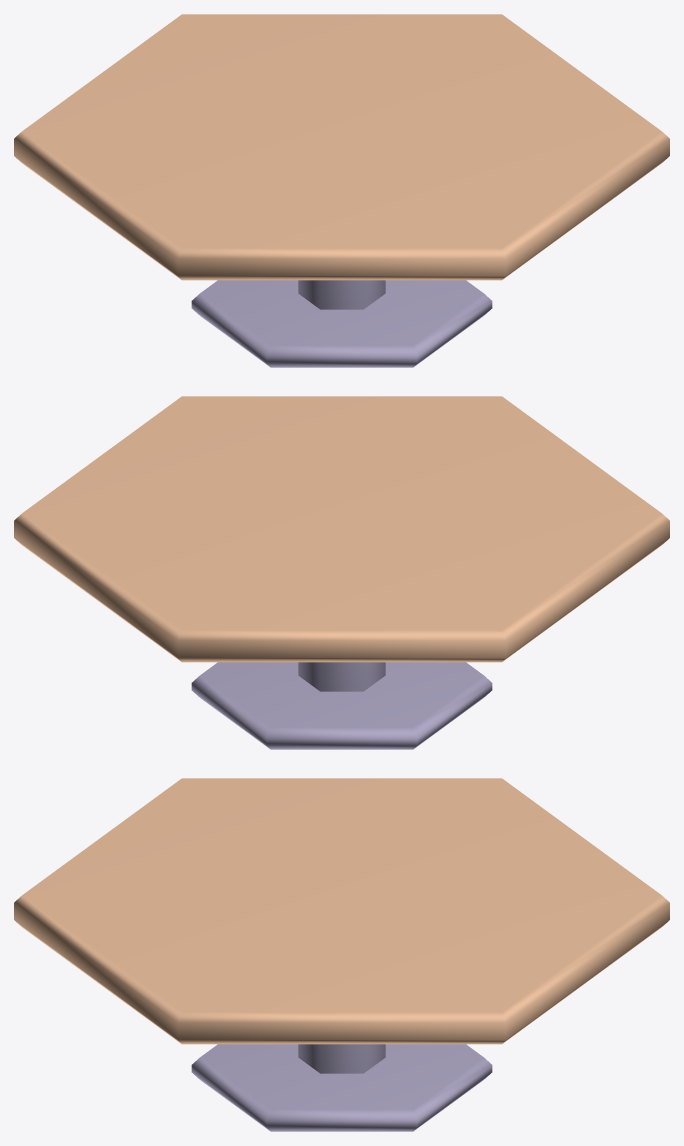
Rendered from round-table.glb.
3 views of the same model, one above another, from view 1: azimuth 30°, elevation 25°; view 2: azimuth 150°, elevation 25°; view 3: azimuth 270°, elevation 25° (orthographic).
Visible parts, largest first — view 1: part (×3); view 2: part (×3); view 3: part (×3).
Part boxes in pixels (x1,y1,x2,y2): part (×3): [14, 14, 669, 367]; part (×3): [14, 396, 669, 749]; part (×3): [14, 778, 669, 1131].
Size of the model in its own units: 2.08 by 0.745 by 2.4.
Materials: 1 (1 with a texture image).
